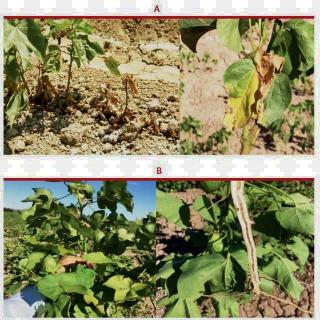wilt: (227, 51, 279, 137), (234, 194, 265, 290), (102, 73, 148, 117)
